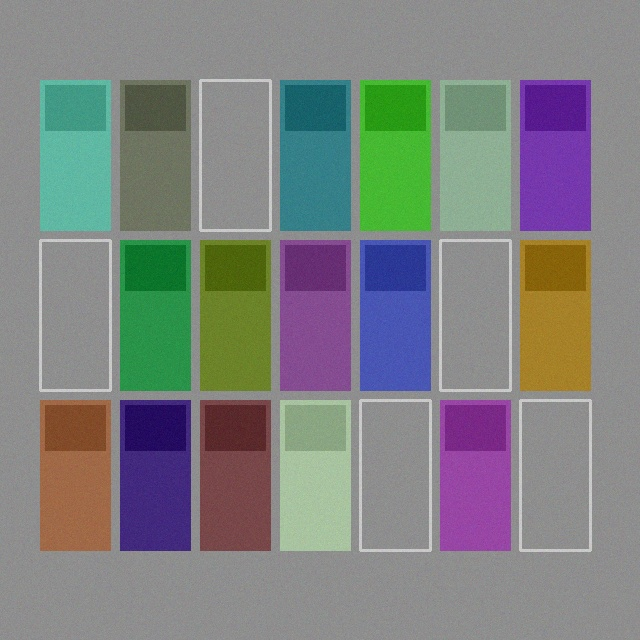space-empty: (200, 80, 270, 230), (40, 240, 110, 390), (440, 240, 510, 390), (360, 400, 430, 550), (520, 400, 590, 550)
space-occupied: (40, 80, 110, 230), (120, 80, 190, 230), (280, 80, 350, 230), (360, 80, 430, 230), (440, 80, 510, 230), (520, 80, 590, 230), (120, 240, 190, 390), (200, 240, 270, 390), (280, 240, 350, 390), (360, 240, 430, 390), (520, 240, 590, 390), (40, 400, 110, 550), (120, 400, 190, 550), (200, 400, 270, 550), (280, 400, 350, 550), (440, 400, 510, 550)
